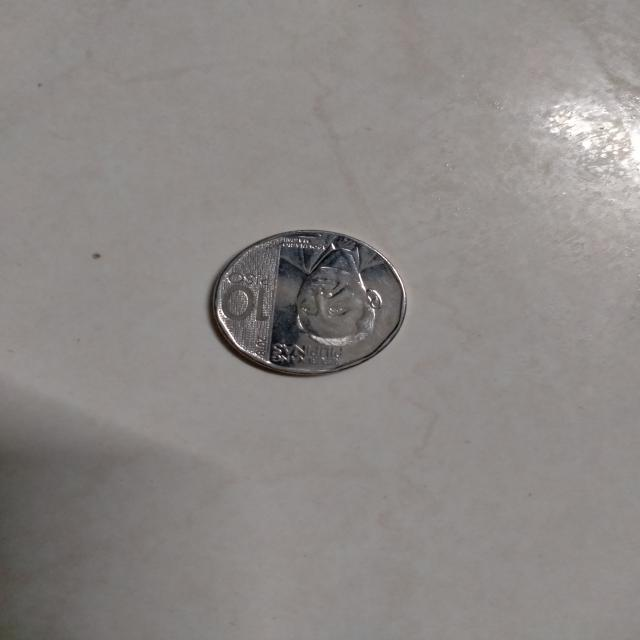10_New_Front: (220, 238, 385, 360)
